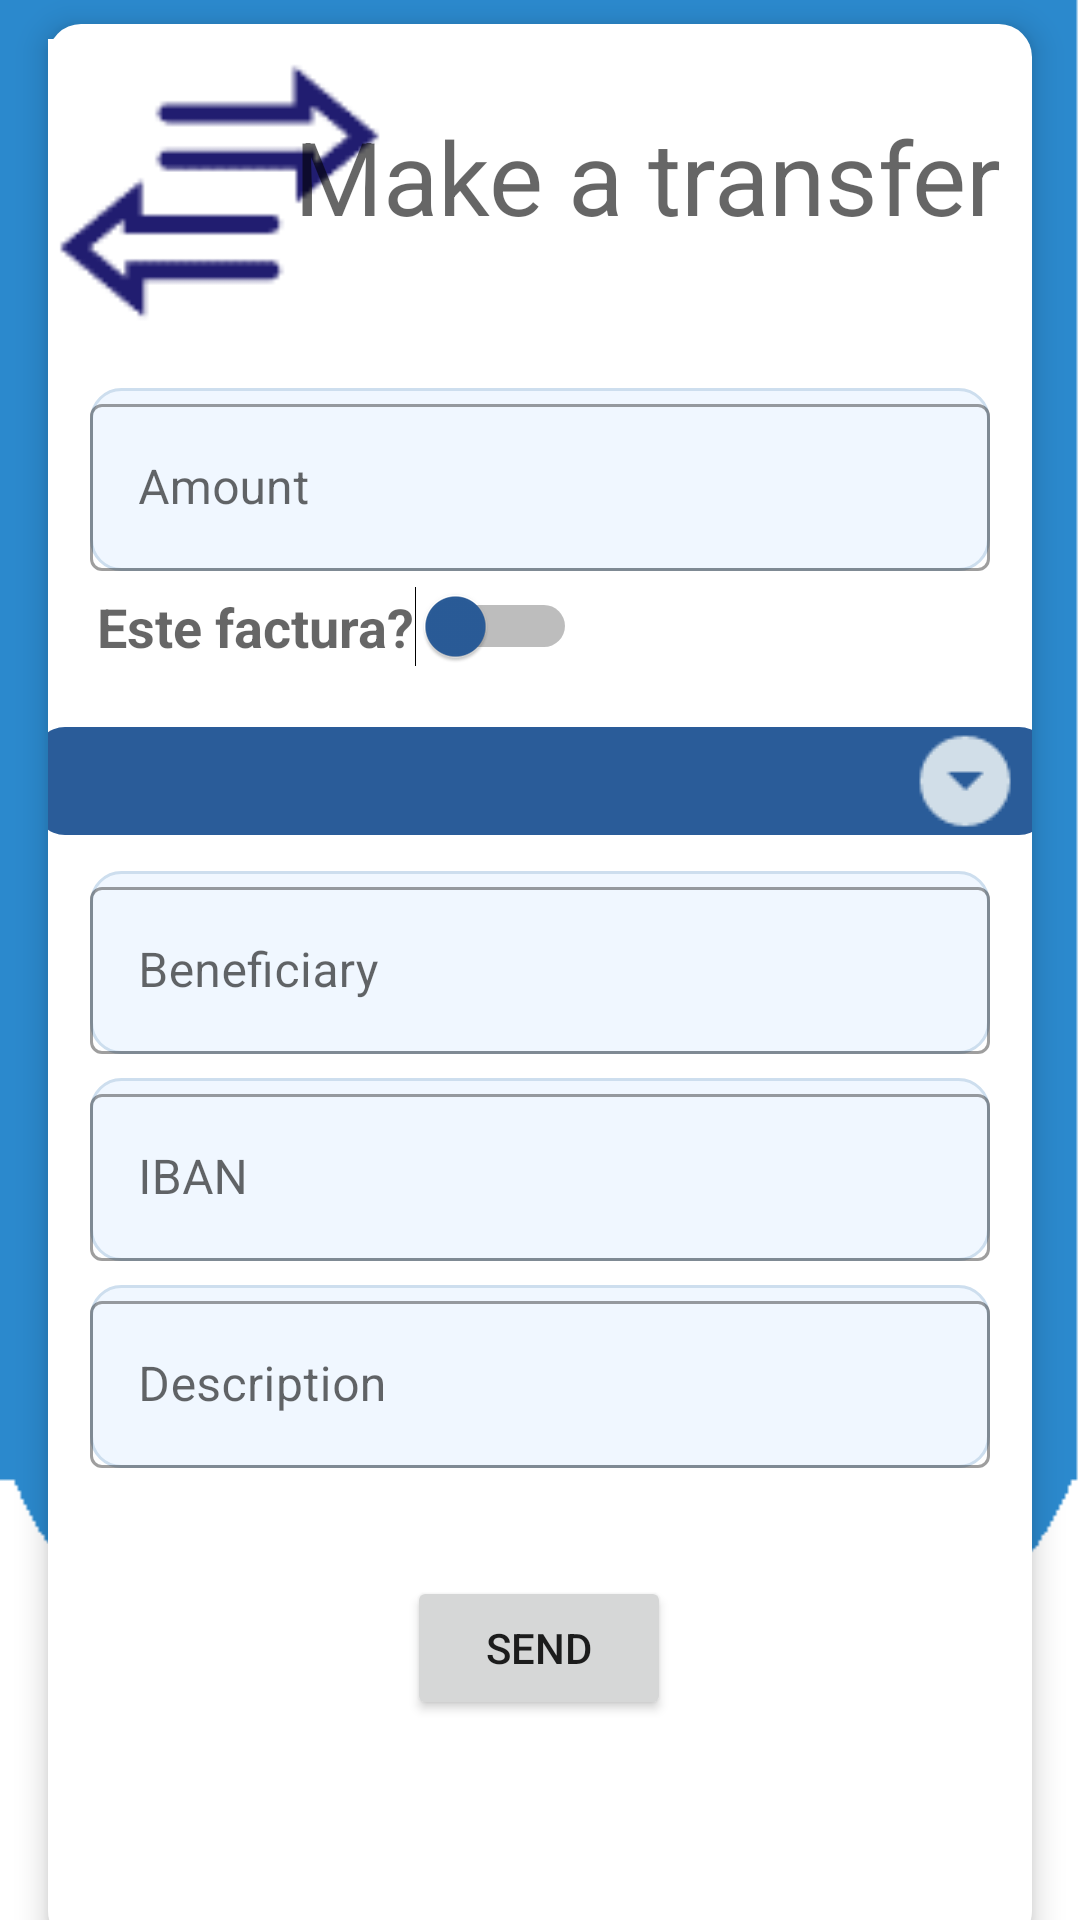

Named icons in this screenshot (1080*1920) and their centers, (x=x, y=y):
paymentsicon: (x=219, y=191)
